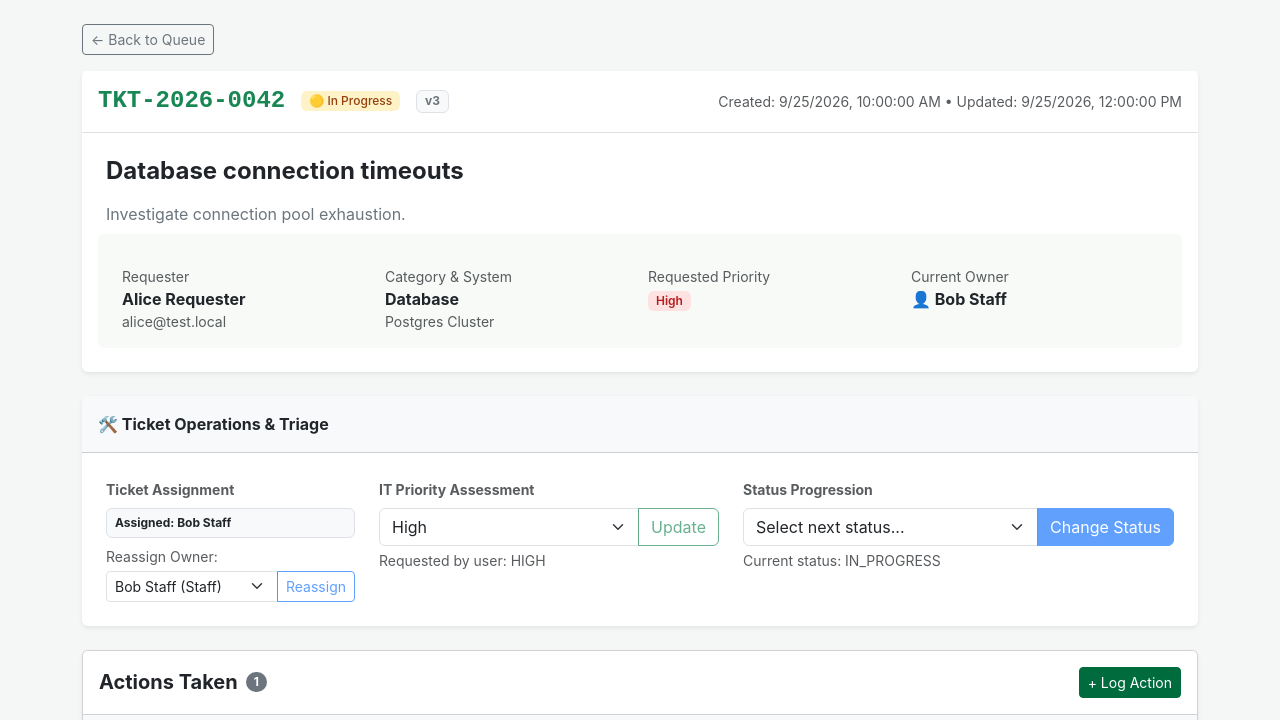
Test: Phase F2 / L4-P06: Ticket Workflow UI Tests (UI-L4-09, UI-L4-10) › UI-L4-17: create success remains visible after ticket reload
The image size is (1280, 720).
Click the button "+ Log Action": (1130, 682) [1079,667,1181,698]
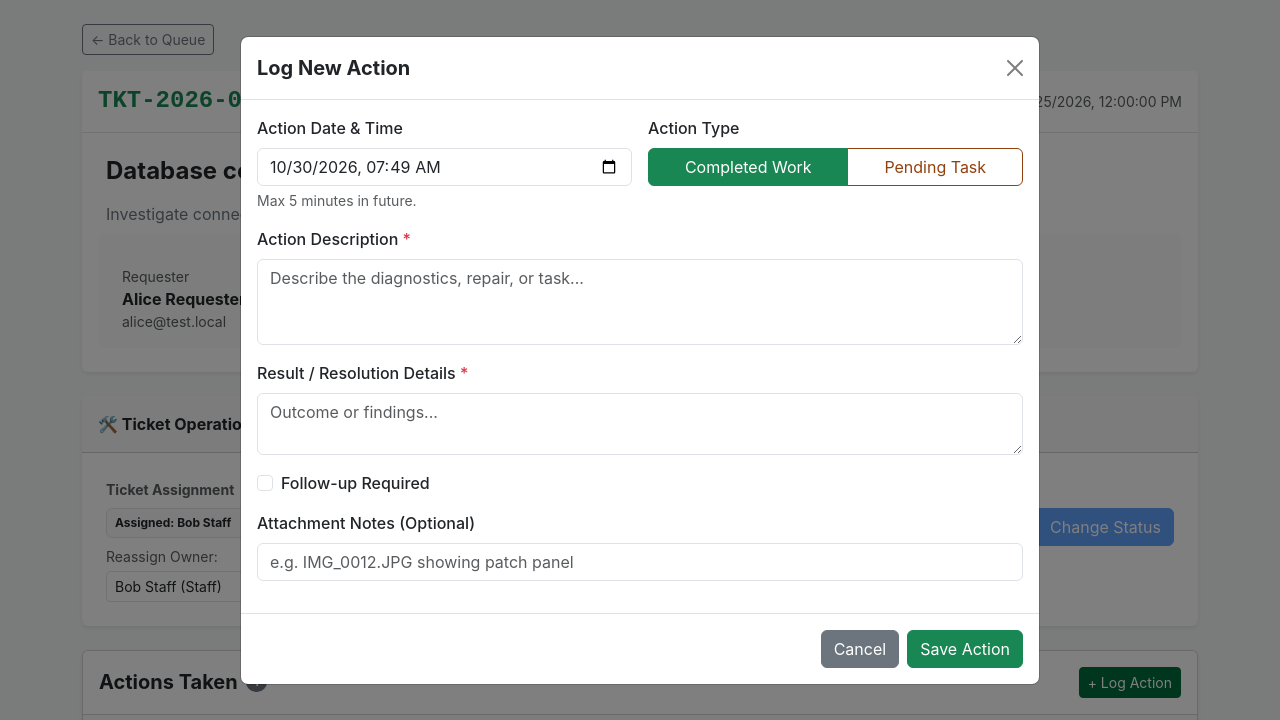
In the text box labelled "Action Description *": (640, 302) [257,258,1023,344], type "Checked connections"
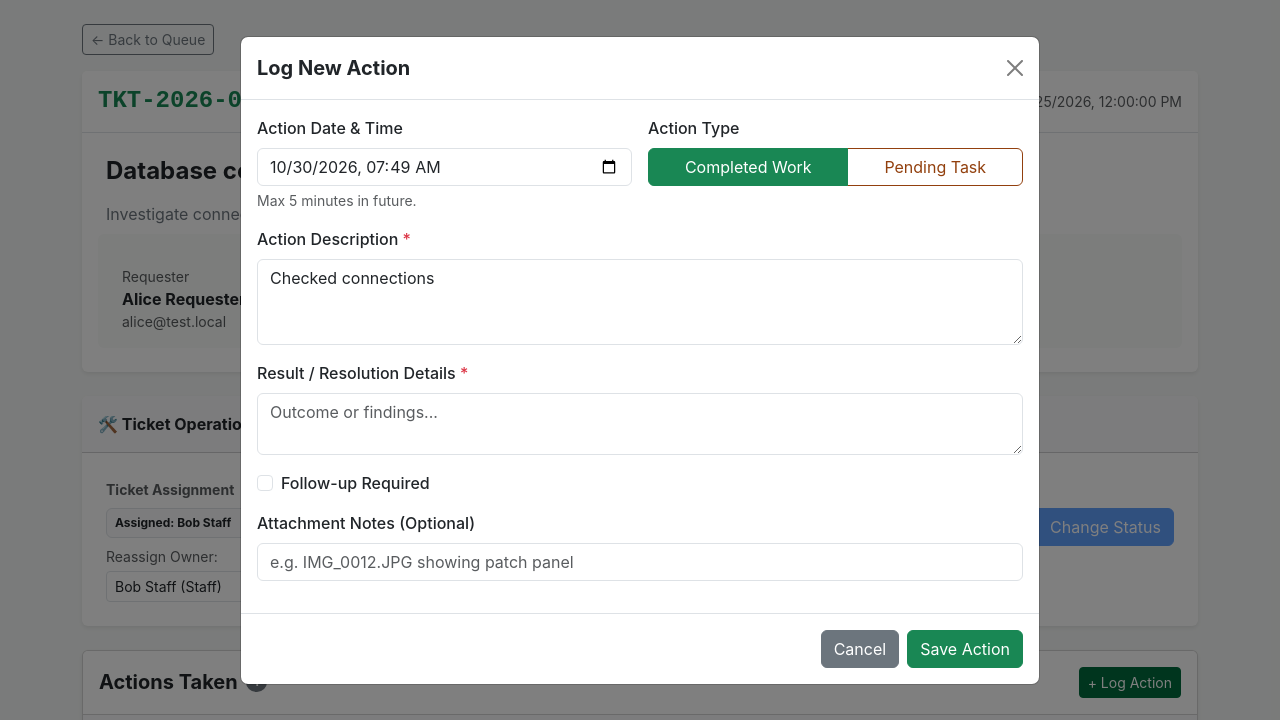
In the text box labelled "Result / Resolution Details *": (640, 424) [257,392,1023,454], type "Healthy"
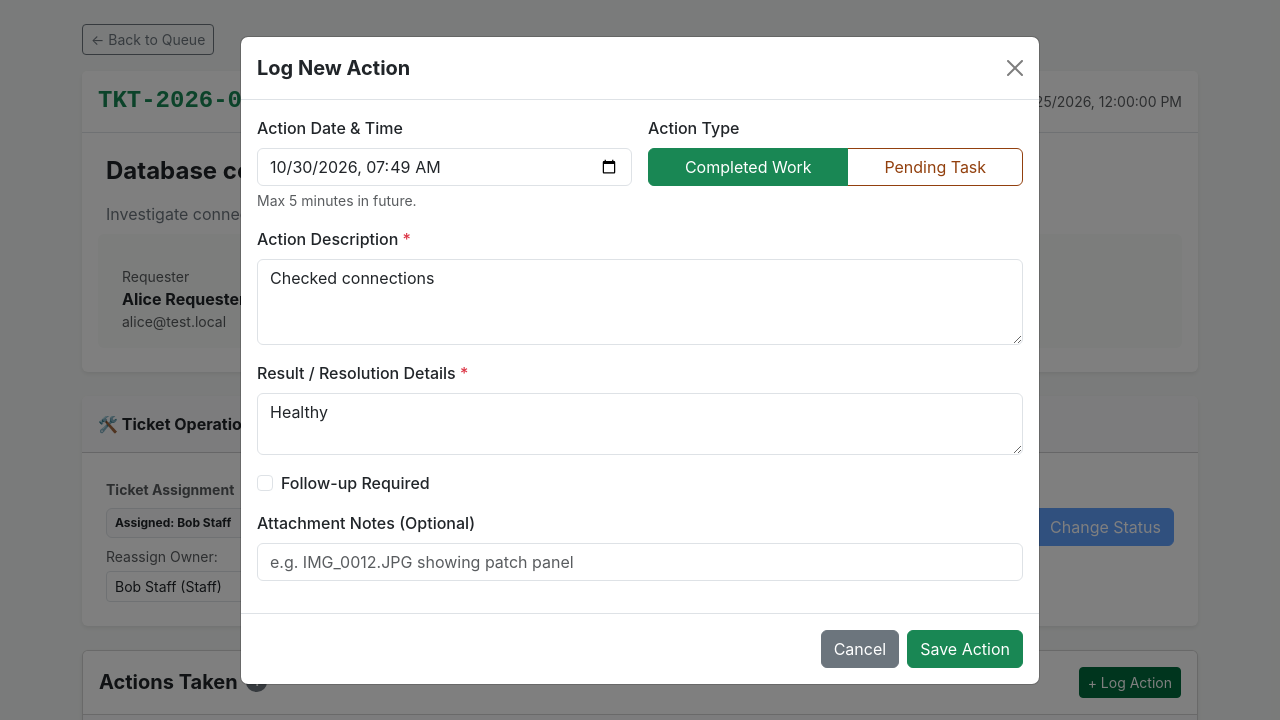
Click the button "Save Action": (965, 648) [907,630,1023,668]
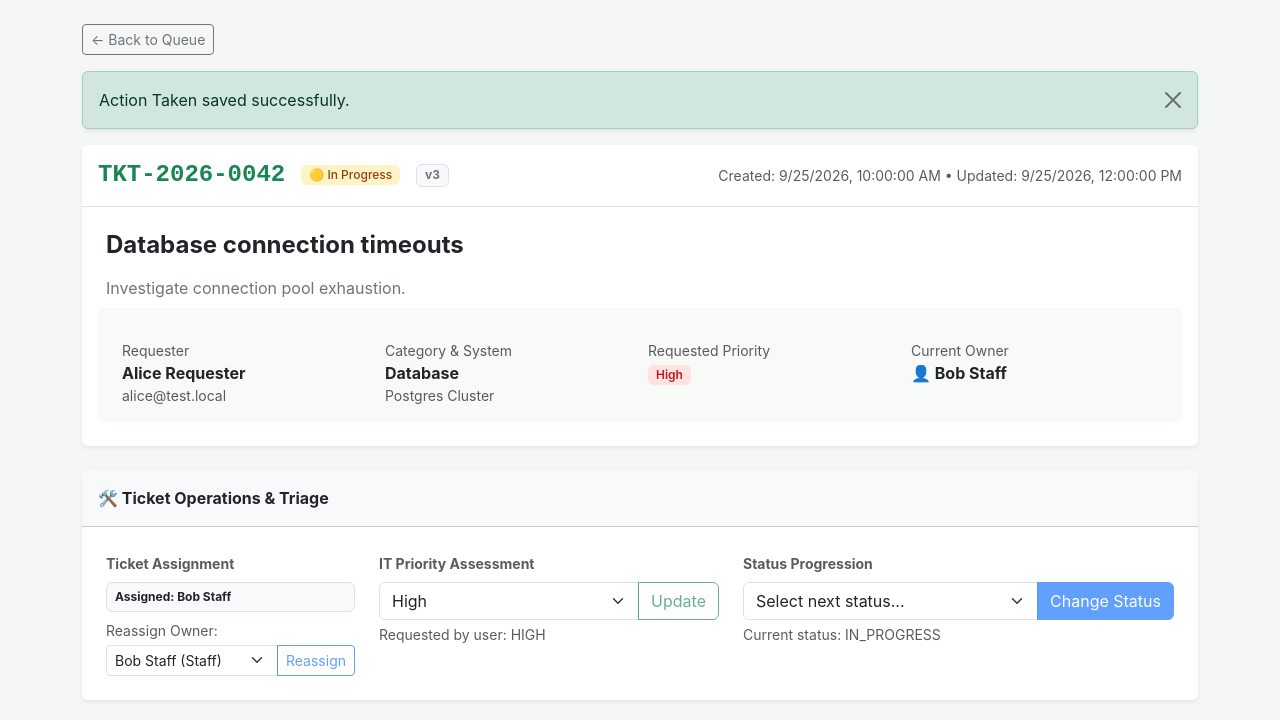
Check: the text "Action Taken saved successfully." is shown, box [82,71,1198,129]
Check: the dialog is gone
